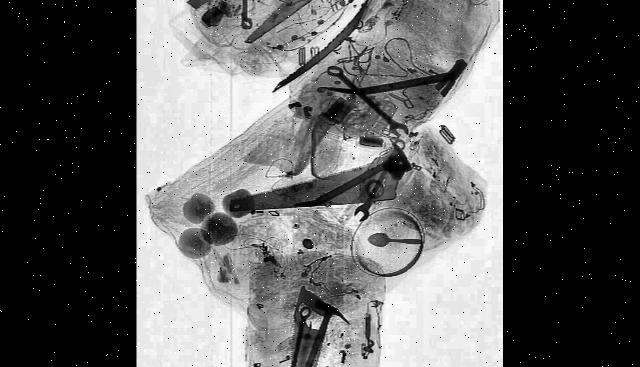Wrench: (326, 56, 410, 145), (352, 130, 407, 227), (280, 300, 313, 367), (234, 0, 252, 29)
